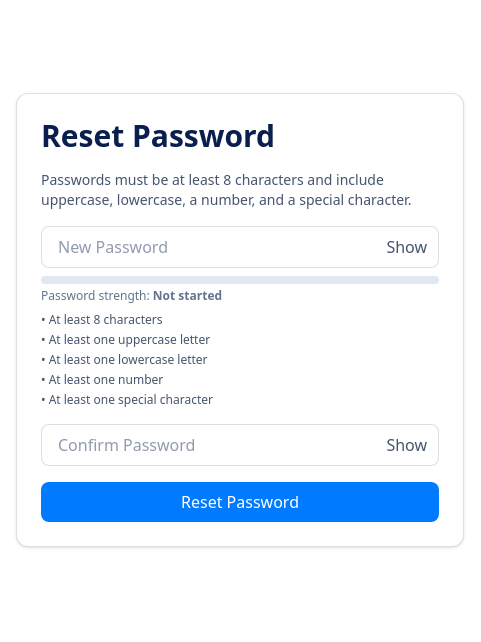
ResetPasswordPage › rejects a password too short
Type "Pass1!" into the password field with placeholder "New Password" at (240, 247), box [41,226,439,268]
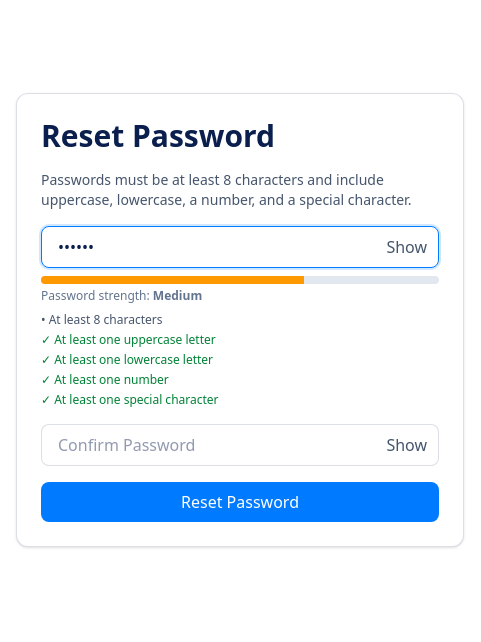
Type "Pass1!" into the password field with placeholder "Confirm Password" at (240, 445), box [41,424,439,466]
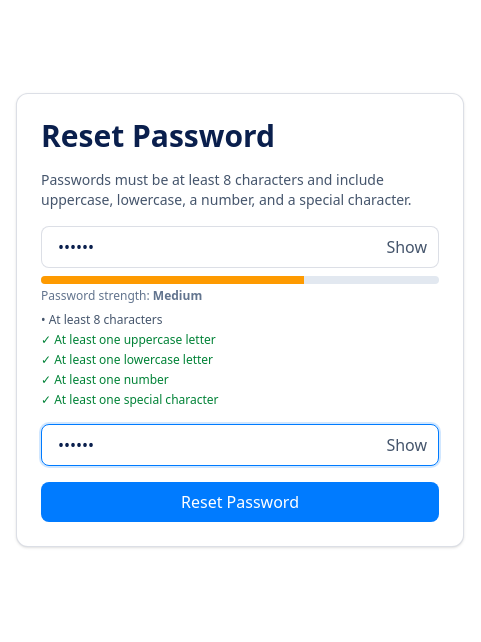
Click the button "Reset Password" at (240, 502), box [41,482,439,522]
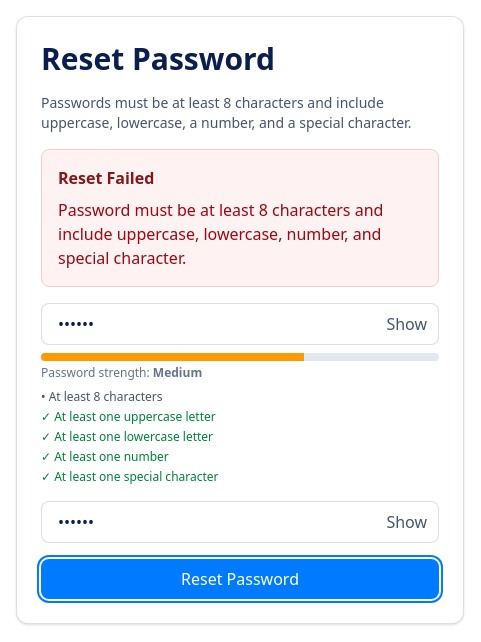
Result: the text "Password must be at least 8 characters and include uppercase, lowercase, number, and special character." is shown at [58,199,383,269]
